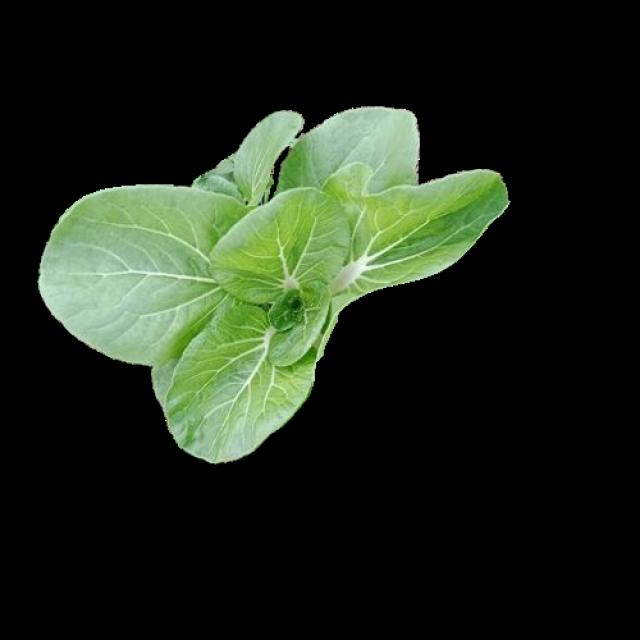healthy: (35, 108, 503, 458)
mature: (37, 110, 506, 461)
